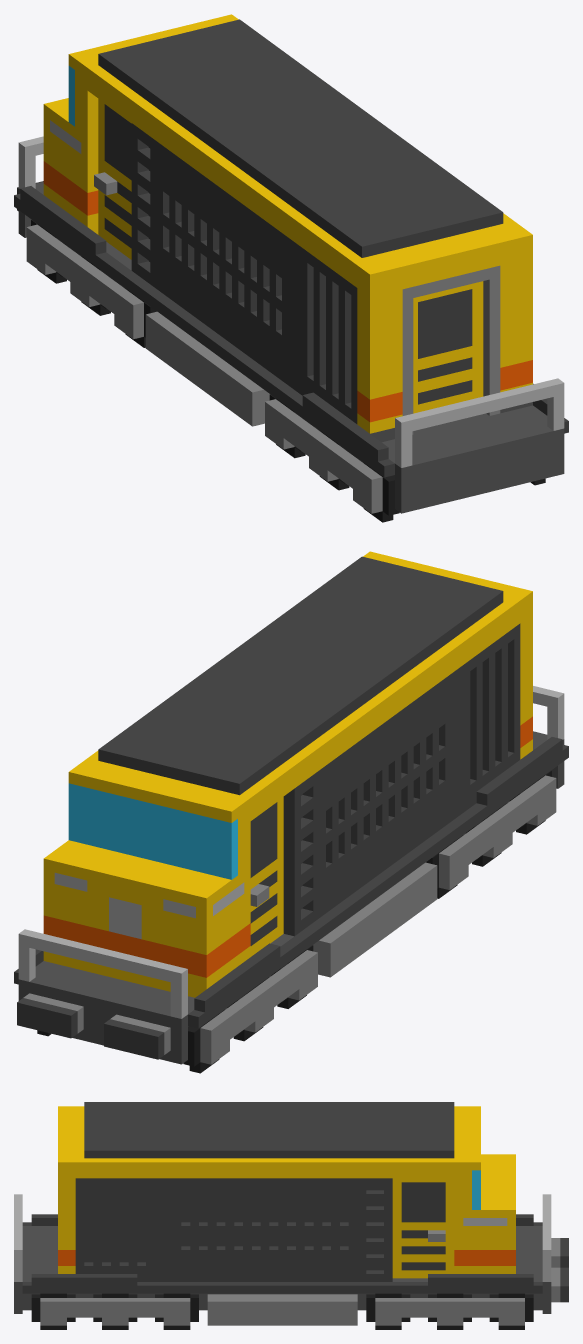
Rendered from veh_train2.obj.
3 renders of one model, top to bottom at view 1: azimuth 30°, elevation 25°; view 2: azimuth 150°, elevation 25°; view 3: azimuth 270°, elevation 25°, orthographic. The views are drawn at different scales.
Size of the model in its own units: 1.7 by 2.2 by 6.3.
1 material, 1 textured.
